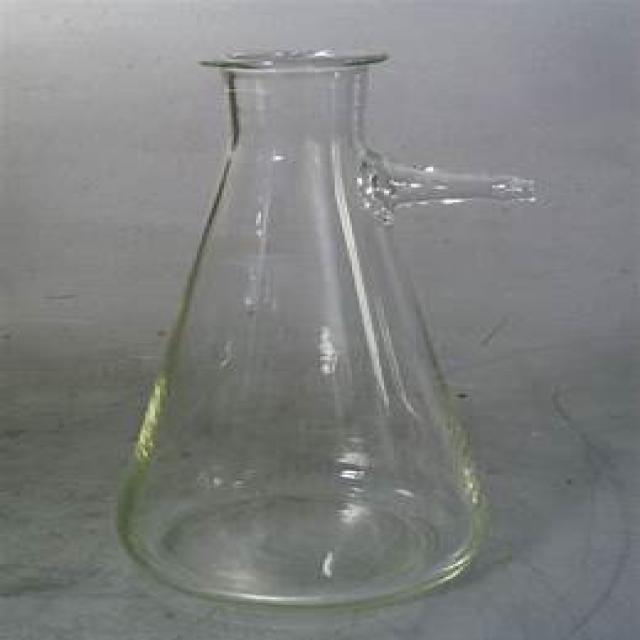Titrarion: (109, 41, 484, 602)
